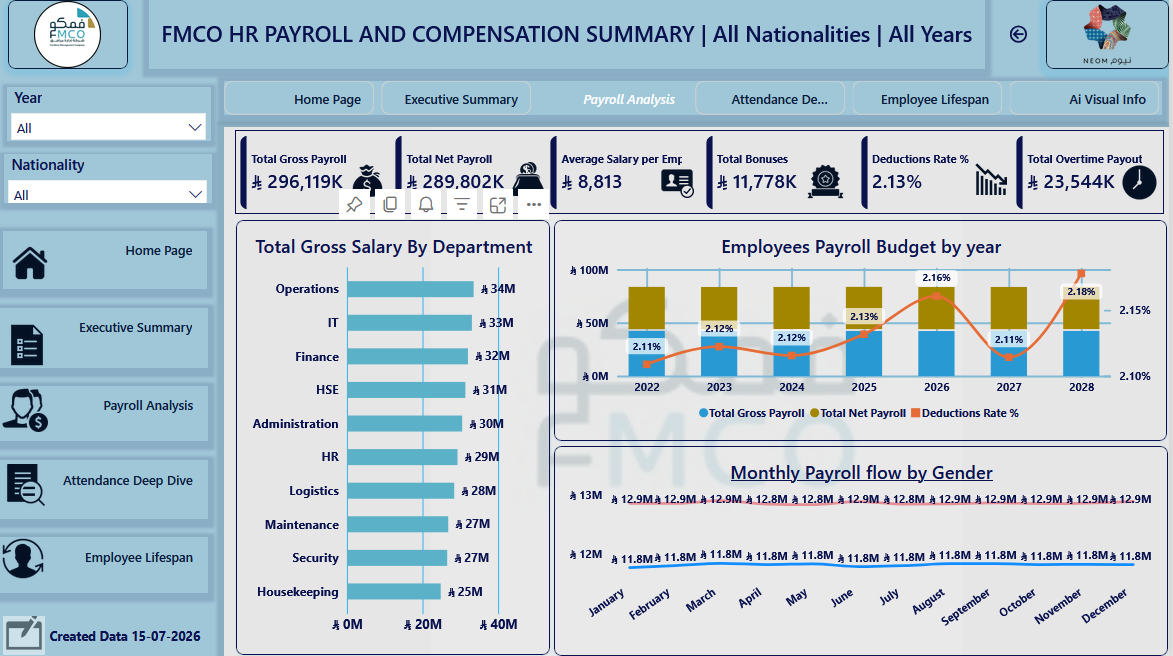

The dashboard page shown, as its layout file describes it:
{"tool":"powerbi","page":{"name":"Payroll Analysis ","canvas":[1280,720],"ordinal":2},"visuals":[{"type":"image","box":[8.6,0,131.4,75.7],"z":0},{"type":"cardVisual","fields":{"Data":["All mesures.Total Gross Payroll","All mesures.Total Net Payroll","All mesures.Average Salary per Employee","All mesures.Total Bonuses","All mesures.Deductions Rate %","All mesures.Total Overtime Payout"]},"box":[257.1,142.9,1021.4,92.9],"z":0,"group":"g5"},{"type":"actionButton","box":[3.5,253.4,224.2,63.8],"z":0,"group":"g2"},{"type":"image","box":[6.5,261.3,51.2,56.3],"z":0,"group":"g4"},{"type":"actionButton","box":[0,337.7,227.8,65.4],"z":0,"group":"g1"},{"type":"image","box":[3.3,675,46.2,43.3],"z":0,"group":"g3"},{"type":"image","box":[1145.7,0,134.3,75.7],"z":1000},{"type":"slicer","fields":{"Values":["DimDate.Year"]},"box":[7.4,95.7,223.6,59.2],"z":1000,"group":"g6"},{"type":"image","box":[358.4,180.1,87.6,37.9],"z":1000,"group":"g5"},{"type":"group","id":"g1","title":"Group 1","box":[0,337.7,227.8,311.9],"z":1000,"group":"g2"},{"type":"image","box":[6.1,348.7,47.7,58.4],"z":1000,"group":"g4"},{"type":"actionButton","box":[0,424,227.8,60.6],"z":1000,"group":"g1"},{"type":"textbox","box":[49.5,687.4,177.1,31],"z":1000,"group":"g3"},{"type":"image","box":[534.9,177.6,87.1,37.1],"z":2000,"group":"g5"},{"type":"group","id":"g2","title":"Group 3","box":[0,253.4,227.8,396.2],"z":2000,"group":"g4"},{"type":"actionButton","box":[0,504.7,227.8,63.8],"z":2000,"group":"g1"},{"type":"group","id":"g3","title":"Group 2","box":[3.3,675,223.3,43.3],"z":2000},{"type":"image","box":[707.7,180.1,68.6,37.1],"z":3000,"group":"g5"},{"type":"group","id":"g4","title":"Group 4","box":[0,253.4,227.8,396.2],"z":3000},{"type":"actionButton","box":[0,589,227.8,60.6],"z":3000,"group":"g1"},{"type":"image","box":[1217.7,180.5,61.4,40],"z":4000,"group":"g5"},{"type":"image","box":[1188.6,188.6,70,37.1],"z":4000},{"type":"image","box":[1.7,420,51.5,55.7],"z":4000,"group":"g1"},{"type":"image","box":[1188.6,174.3,68.6,37.1],"z":5000},{"type":"image","box":[872,177.6,65.7,42.9],"z":5000,"group":"g5"},{"type":"image","box":[2.4,501.6,46.6,59.5],"z":5000,"group":"g1"},{"type":"image","box":[1188.6,190,70,37.1],"z":6000},{"type":"image","box":[1.8,582.9,47.7,57.4],"z":6000,"group":"g1"},{"type":"image","box":[245,138.3,1035,581.7],"z":7000},{"type":"group","id":"g5","title":"Group 6","box":[257.1,142.9,1021.4,92.9],"z":8000},{"type":"clusteredBarChart","title":"Total Gross Salary By Department","fields":{"Category":["DimDepartment.DepartmentName"],"Y":["All mesures.Total Gross Payroll"]},"box":[258.6,241.4,344.3,475.7],"z":9000},{"type":"lineChart","title":"Monthly Payroll flow by Gender","fields":{"Category":["DimDate.MonthName"],"Y":["All mesures.Total Gross Payroll"],"Series":["DimEmployee.Gender"]},"box":[606.7,488.3,671.7,230],"z":10000},{"type":"lineStackedColumnComboChart","title":"Employees Payroll Budget by year","fields":{"Y":["All mesures.Total Gross Payroll","All mesures.Total Net Payroll"],"Y2":["All mesures.Deductions Rate %"],"Category":["DimDate.Year"]},"box":[607.1,241.4,671.4,241.4],"z":11000},{"type":"image","box":[1050.2,179.2,70.7,35.3],"z":12000},{"type":"card","fields":{"Values":["All mesures.Payroll Page Title"]},"box":[162.9,0,915.7,75.7],"z":14000},{"type":"slicer","fields":{"Values":["DimNationality.Nationality"]},"box":[4.3,169,227.5,53.3],"z":14000,"group":"g6"},{"type":"group","id":"g6","title":"Group 5","box":[4.3,95.7,228.6,125.7],"z":15000},{"type":"pageNavigator","box":[245.7,88.6,1027.1,37.1],"z":16000},{"type":"actionButton","box":[1085.7,0,60,75.7],"z":17000}]}

Visuals, with their boxes on the page's 1280x720 design canvas (x1, y1, x2, y2). These are canvas units, not pixel positions in the 1173x656 screenshot, which may show the page scaled, cropped or inside an application window:
image: 9:0:140:76
cardVisual - All mesures.Total Gross Payroll x All mesures.Total Net Payroll: 257:143:1278:236
actionButton: 4:253:228:317
image: 6:261:58:318
actionButton: 0:338:228:403
image: 3:675:50:718
image: 1146:0:1280:76
slicer - DimDate.Year: 7:96:231:155
image: 358:180:446:218
"Group 1" group: 0:338:228:650
image: 6:349:54:407
actionButton: 0:424:228:485
textbox: 50:687:227:718
image: 535:178:622:215
"Group 3" group: 0:253:228:650
actionButton: 0:505:228:568
"Group 2" group: 3:675:227:718
image: 708:180:776:217
"Group 4" group: 0:253:228:650
actionButton: 0:589:228:650
image: 1218:180:1279:220
image: 1189:189:1259:226
image: 2:420:53:476
image: 1189:174:1257:211
image: 872:178:938:220
image: 2:502:49:561
image: 1189:190:1259:227
image: 2:583:50:640
image: 245:138:1280:720
"Group 6" group: 257:143:1278:236
"Total Gross Salary By Department" clusteredBarChart: 259:241:603:717
"Monthly Payroll flow by Gender" lineChart: 607:488:1278:718
"Employees Payroll Budget by year" lineStackedColumnComboChart: 607:241:1278:483
image: 1050:179:1121:214
card - All mesures.Payroll Page Title: 163:0:1079:76
slicer - DimNationality.Nationality: 4:169:232:222
"Group 5" group: 4:96:233:221
pageNavigator: 246:89:1273:126
actionButton: 1086:0:1146:76
